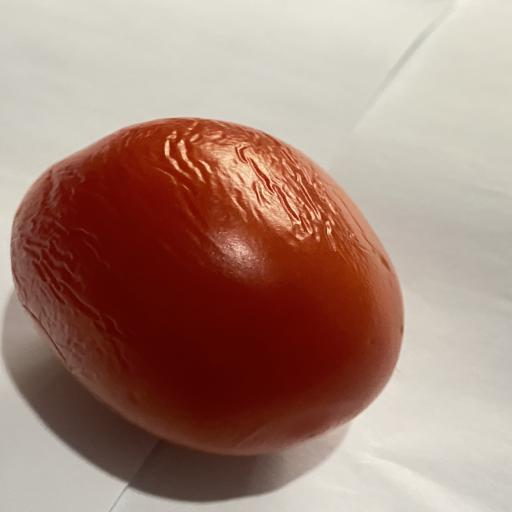spoiled: (11, 118, 403, 455)
